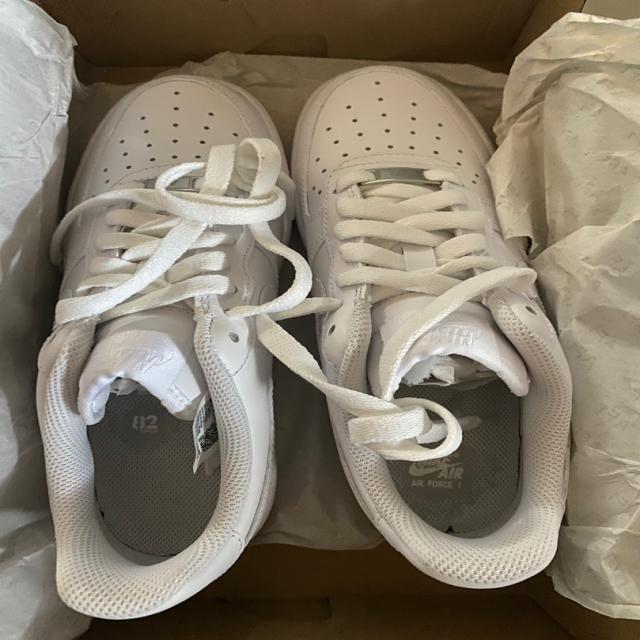nike original air force: (24, 69, 304, 624), (290, 65, 576, 596)
